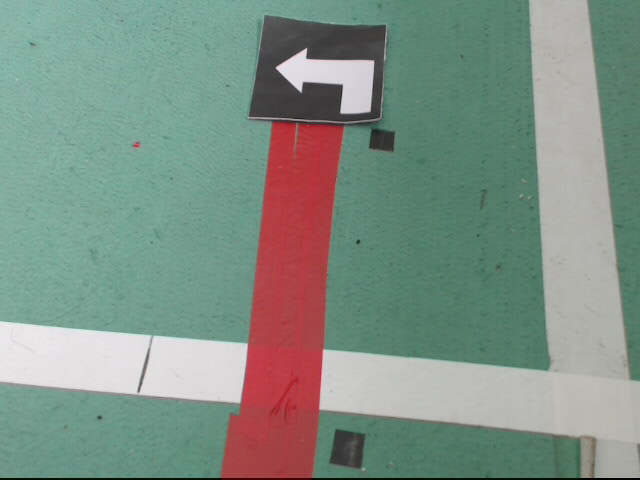left: (248, 15, 390, 125)
